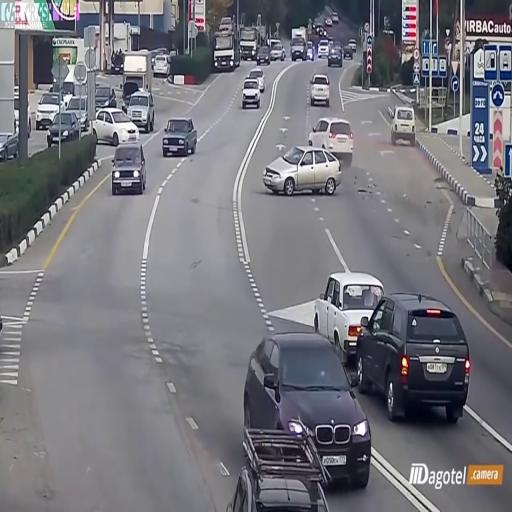小汽车: (245, 335, 367, 478), (357, 296, 467, 427), (316, 272, 384, 346), (263, 143, 342, 194), (310, 117, 356, 160), (92, 101, 144, 139), (109, 142, 145, 193), (162, 113, 198, 159), (44, 109, 80, 151), (390, 102, 418, 143), (127, 92, 156, 130), (213, 29, 242, 66), (32, 90, 62, 125), (307, 72, 333, 105), (241, 76, 263, 114), (287, 27, 311, 60), (150, 48, 172, 80), (325, 42, 346, 66), (257, 40, 273, 64)
